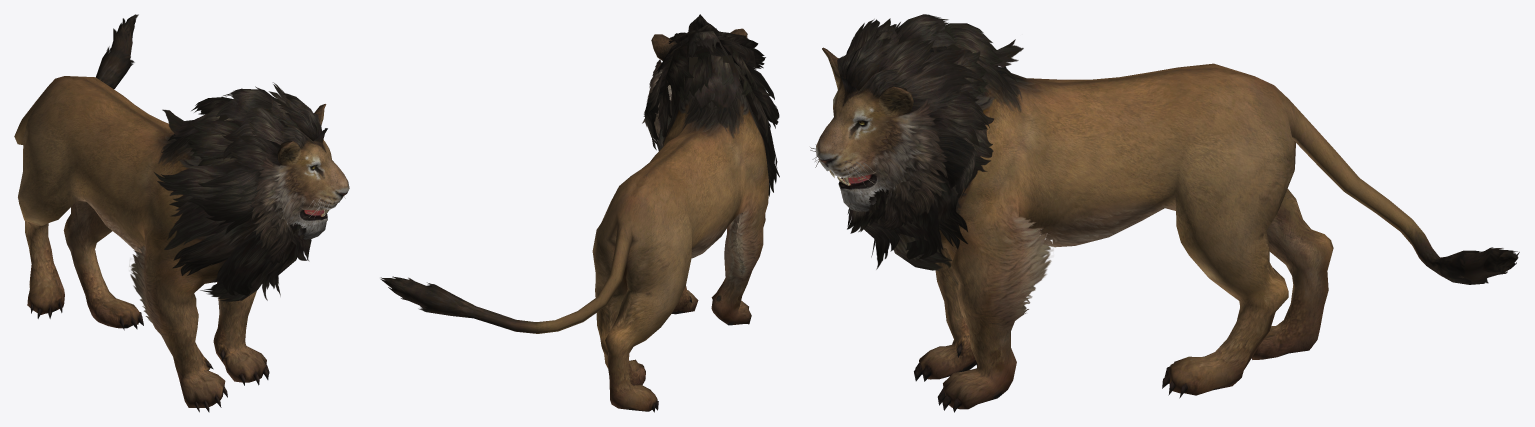
3 renders of one model, left to right at view 1: azimuth 30°, elevation 25°; view 2: azimuth 150°, elevation 25°; view 3: azimuth 270°, elevation 25°, orthographic. The views are drawn at different scales.
Parts seen in each view (by area): view 1: Model001_25_lion_0.25_0_0; view 2: Model001_25_lion_0.25_0_0; view 3: Model001_25_lion_0.25_0_0.
Boxes of the visible parts, left/top/right/bottom form: Model001_25_lion_0.25_0_0: left=14, top=14, right=349, bottom=412; Model001_25_lion_0.25_0_0: left=380, top=14, right=779, bottom=412; Model001_25_lion_0.25_0_0: left=810, top=14, right=1519, bottom=412.
Bounding box in the file's own units: 108 × 143 × 237.
1 material, 1 textured.
